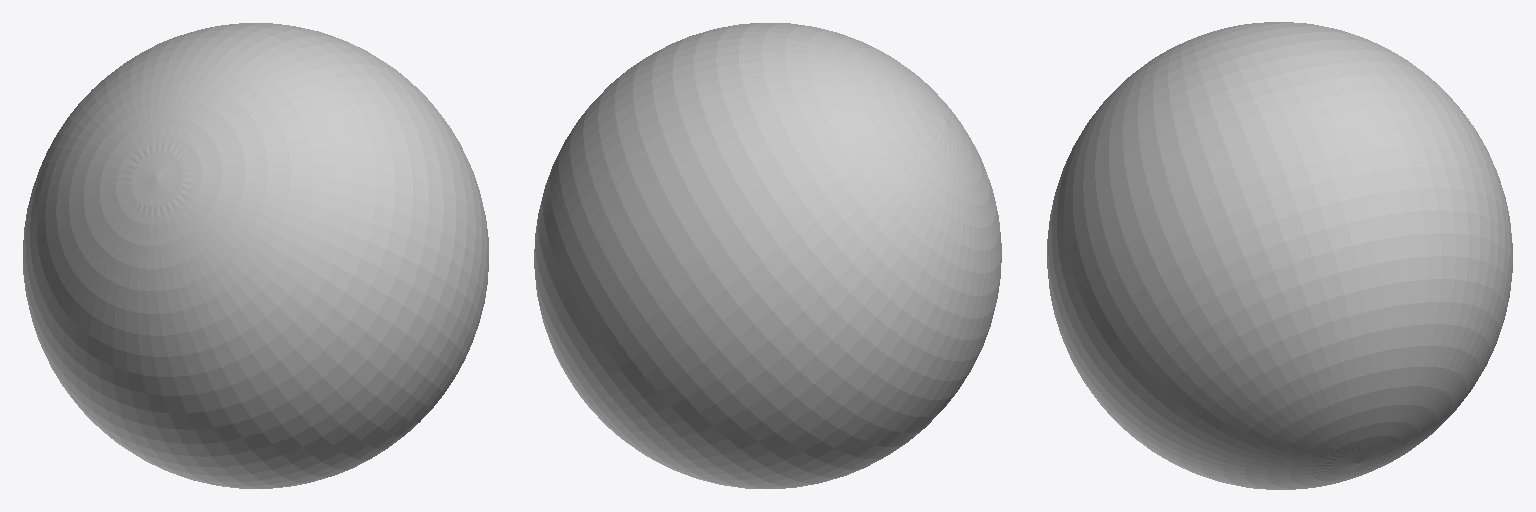
The model's file is moon.obj.
3 renders of one model, left to right at view 1: azimuth 30°, elevation 25°; view 2: azimuth 150°, elevation 25°; view 3: azimuth 270°, elevation 25°, orthographic.
Visible parts, largest first — view 1: MoonNeu; view 2: MoonNeu; view 3: MoonNeu.
Boxes of the visible parts, x1,y1,x2,y2 form: MoonNeu: [23, 23, 488, 488]; MoonNeu: [534, 23, 1001, 488]; MoonNeu: [1047, 22, 1512, 489].
Size of the model in its own units: 5.69 by 5.69 by 5.68.